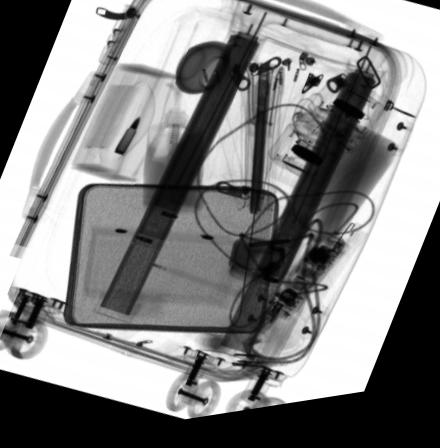Bullet: (113, 121, 139, 160)
